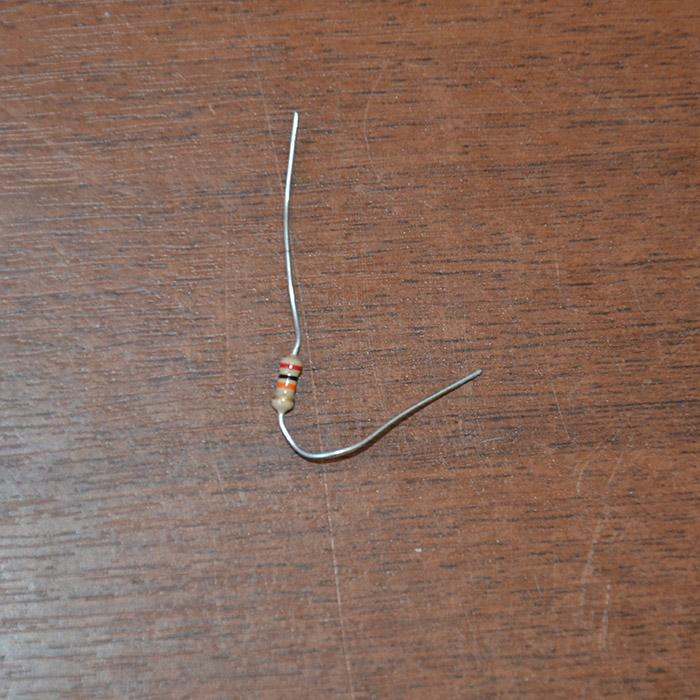resistor: (270, 353, 302, 414)
